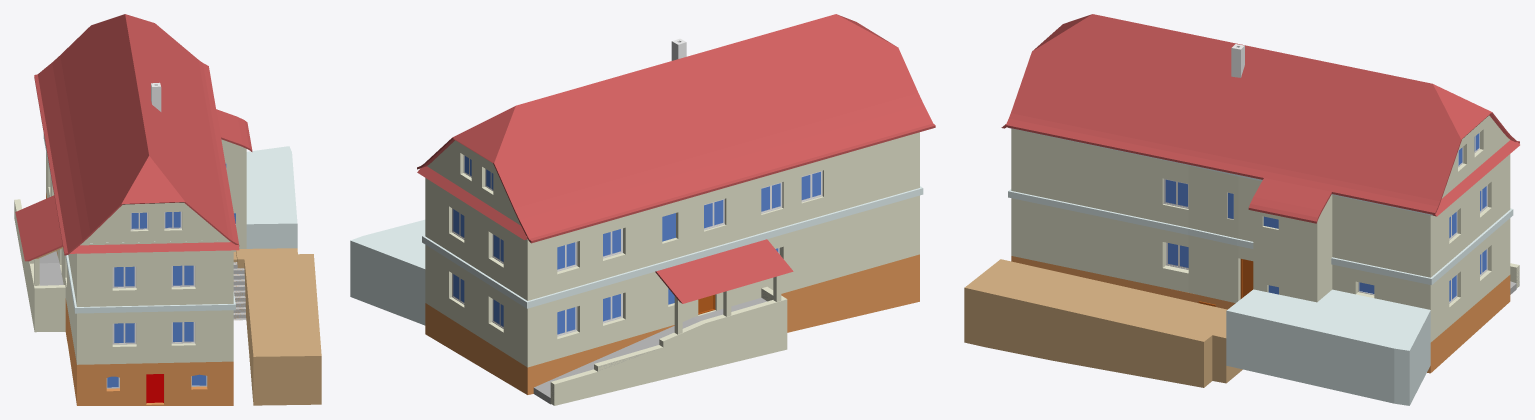
The model's file is Stvolinky.dae.
3 renders of one model, left to right at view 1: azimuth 30°, elevation 25°; view 2: azimuth 150°, elevation 25°; view 3: azimuth 270°, elevation 25°, orthographic. The views are drawn at different scales.
Parts seen in each view (by area): view 1: SketchUp (×9), group_138, group_6, group_51, group_56, group_17, group_139, group_124; view 2: SketchUp (×7), group_6, group_17, group_138, group_139, group_54, group_10; view 3: SketchUp (×7), group_17, group_138, group_54, group_82.
Part boxes in pixels (left/top/right/bottom): SketchUp (×9): left=14, top=14, right=321, bottom=405; group_138: left=82, top=202, right=230, bottom=243; group_6: left=15, top=195, right=62, bottom=261; group_51: left=121, top=156, right=184, bottom=204; group_56: left=69, top=242, right=239, bottom=253; group_17: left=43, top=134, right=235, bottom=313; group_139: left=39, top=251, right=63, bottom=285; group_124: left=80, top=240, right=229, bottom=245; SketchUp (×7): left=350, top=14, right=935, bottom=405; group_6: left=655, top=239, right=793, bottom=303; group_17: left=422, top=186, right=923, bottom=308; group_138: left=427, top=140, right=520, bottom=225; group_139: left=533, top=297, right=766, bottom=404; group_54: left=417, top=166, right=527, bottom=240; group_10: left=678, top=275, right=781, bottom=334; SketchUp (×7): left=964, top=14, right=1519, bottom=405; group_17: left=1008, top=189, right=1513, bottom=285; group_138: left=1442, top=115, right=1509, bottom=198; group_54: left=1433, top=140, right=1519, bottom=216; group_82: left=1008, top=127, right=1433, bottom=215.
Size of the model in its own units: 817 by 954 by 515.
